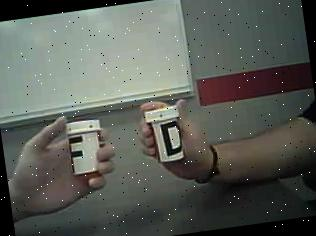Bottle D: (138, 99, 194, 173)
Bottle F: (54, 111, 110, 181)
